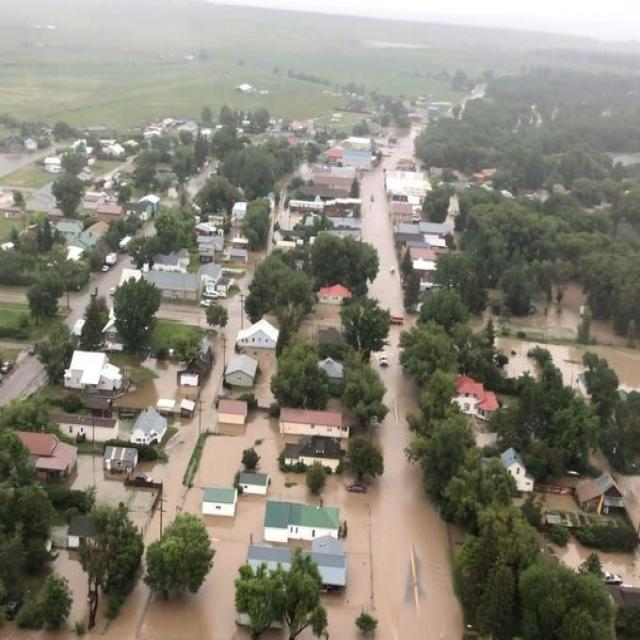flood: (137, 412, 321, 640), (320, 414, 462, 640), (368, 329, 462, 640), (0, 502, 159, 640), (496, 338, 640, 399), (71, 455, 159, 536), (141, 412, 197, 529), (361, 168, 405, 314), (117, 357, 200, 408), (511, 282, 583, 338), (201, 334, 223, 430), (382, 126, 419, 170), (222, 294, 240, 360), (591, 317, 627, 346), (261, 630, 287, 640), (297, 629, 318, 640), (451, 534, 456, 542)
house: (280, 402, 354, 476), (245, 538, 348, 586), (260, 499, 341, 545), (12, 428, 81, 482), (62, 351, 118, 394), (232, 312, 280, 357), (580, 472, 622, 515), (460, 376, 498, 420), (130, 403, 166, 444), (159, 272, 202, 304), (223, 354, 259, 392), (201, 485, 238, 518), (218, 395, 248, 428), (104, 446, 139, 472), (501, 448, 525, 481), (316, 280, 349, 304), (239, 472, 271, 494), (202, 262, 224, 286), (128, 202, 152, 224), (231, 202, 247, 228)
